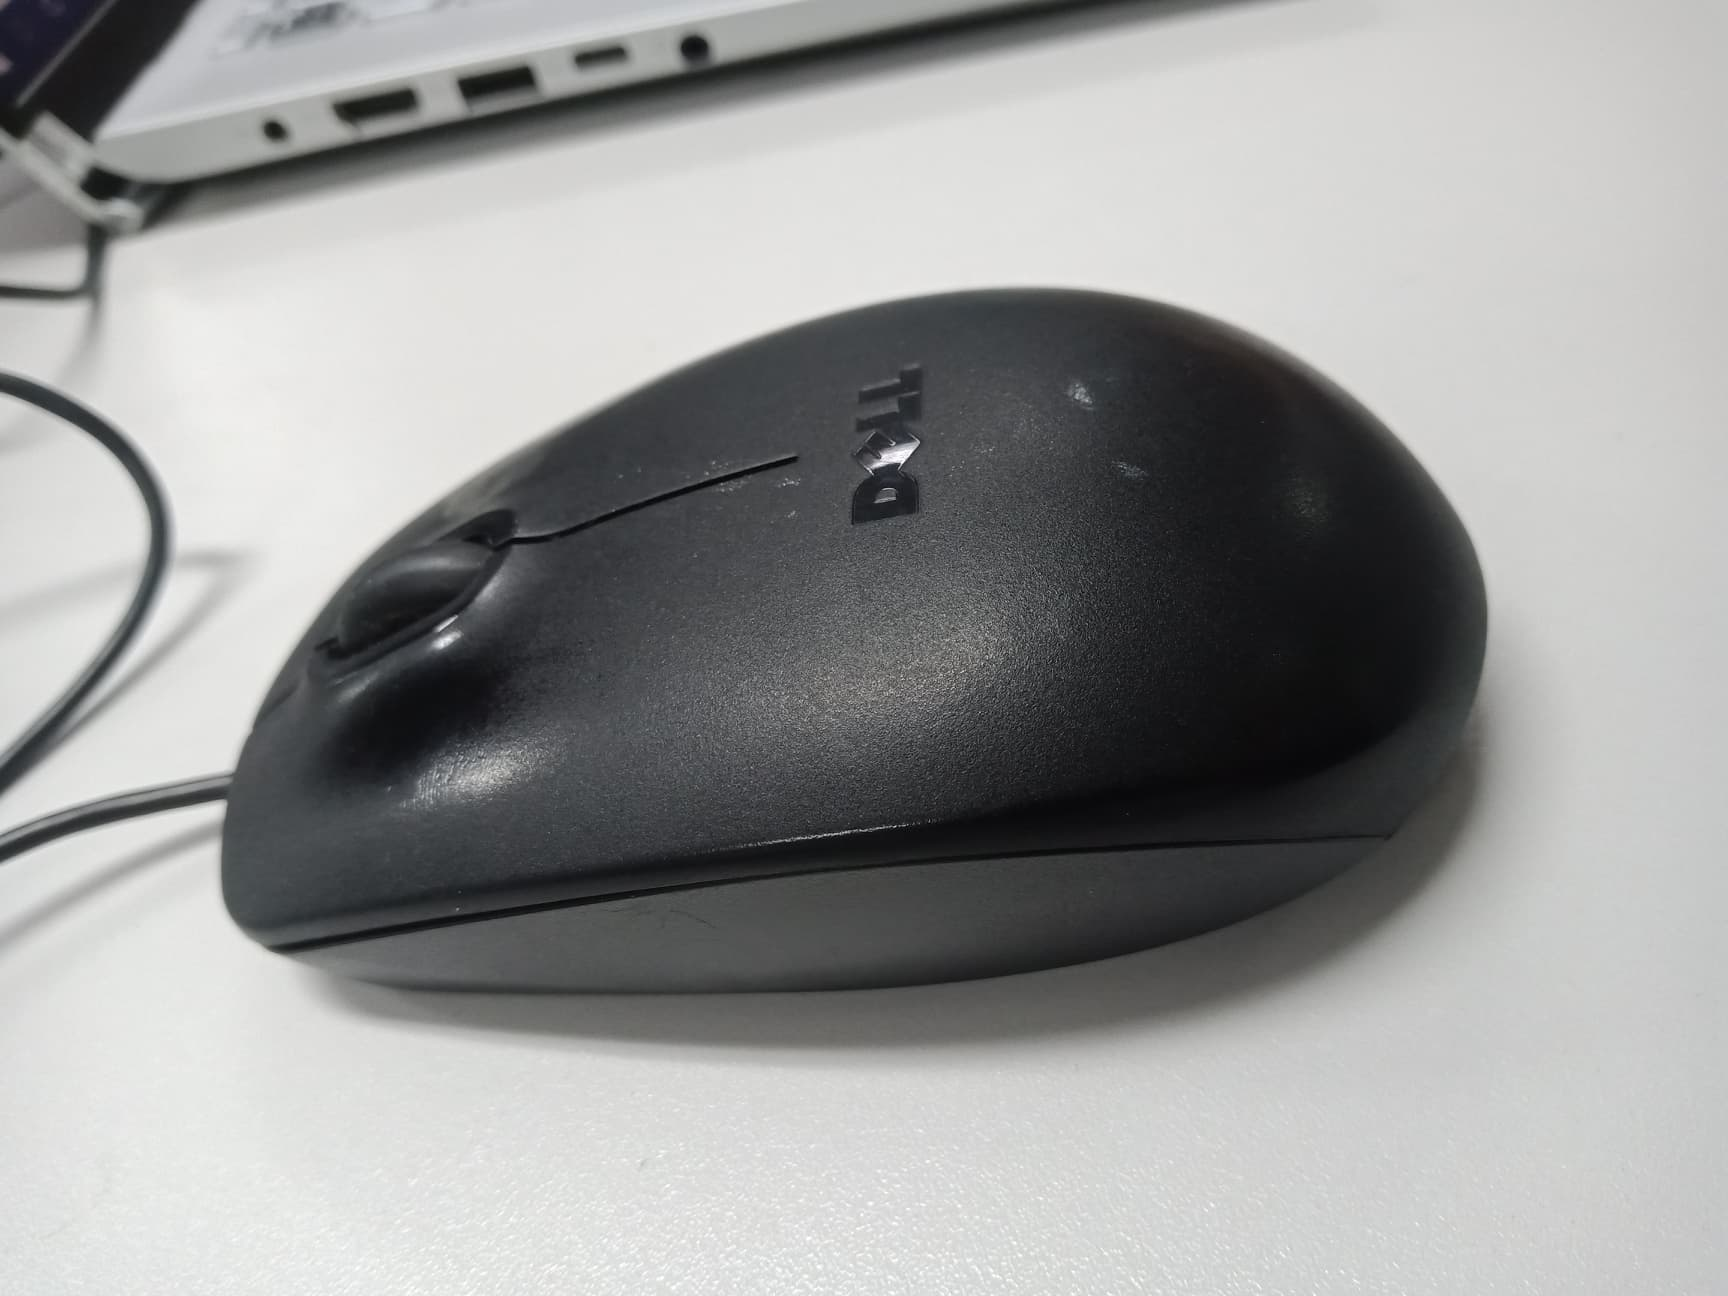mouse: (215, 282, 1491, 992)
